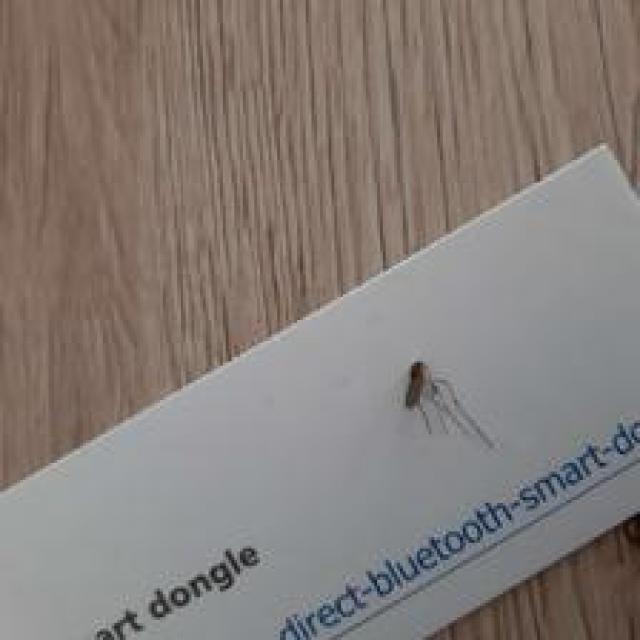Culex: (401, 359, 496, 450)
